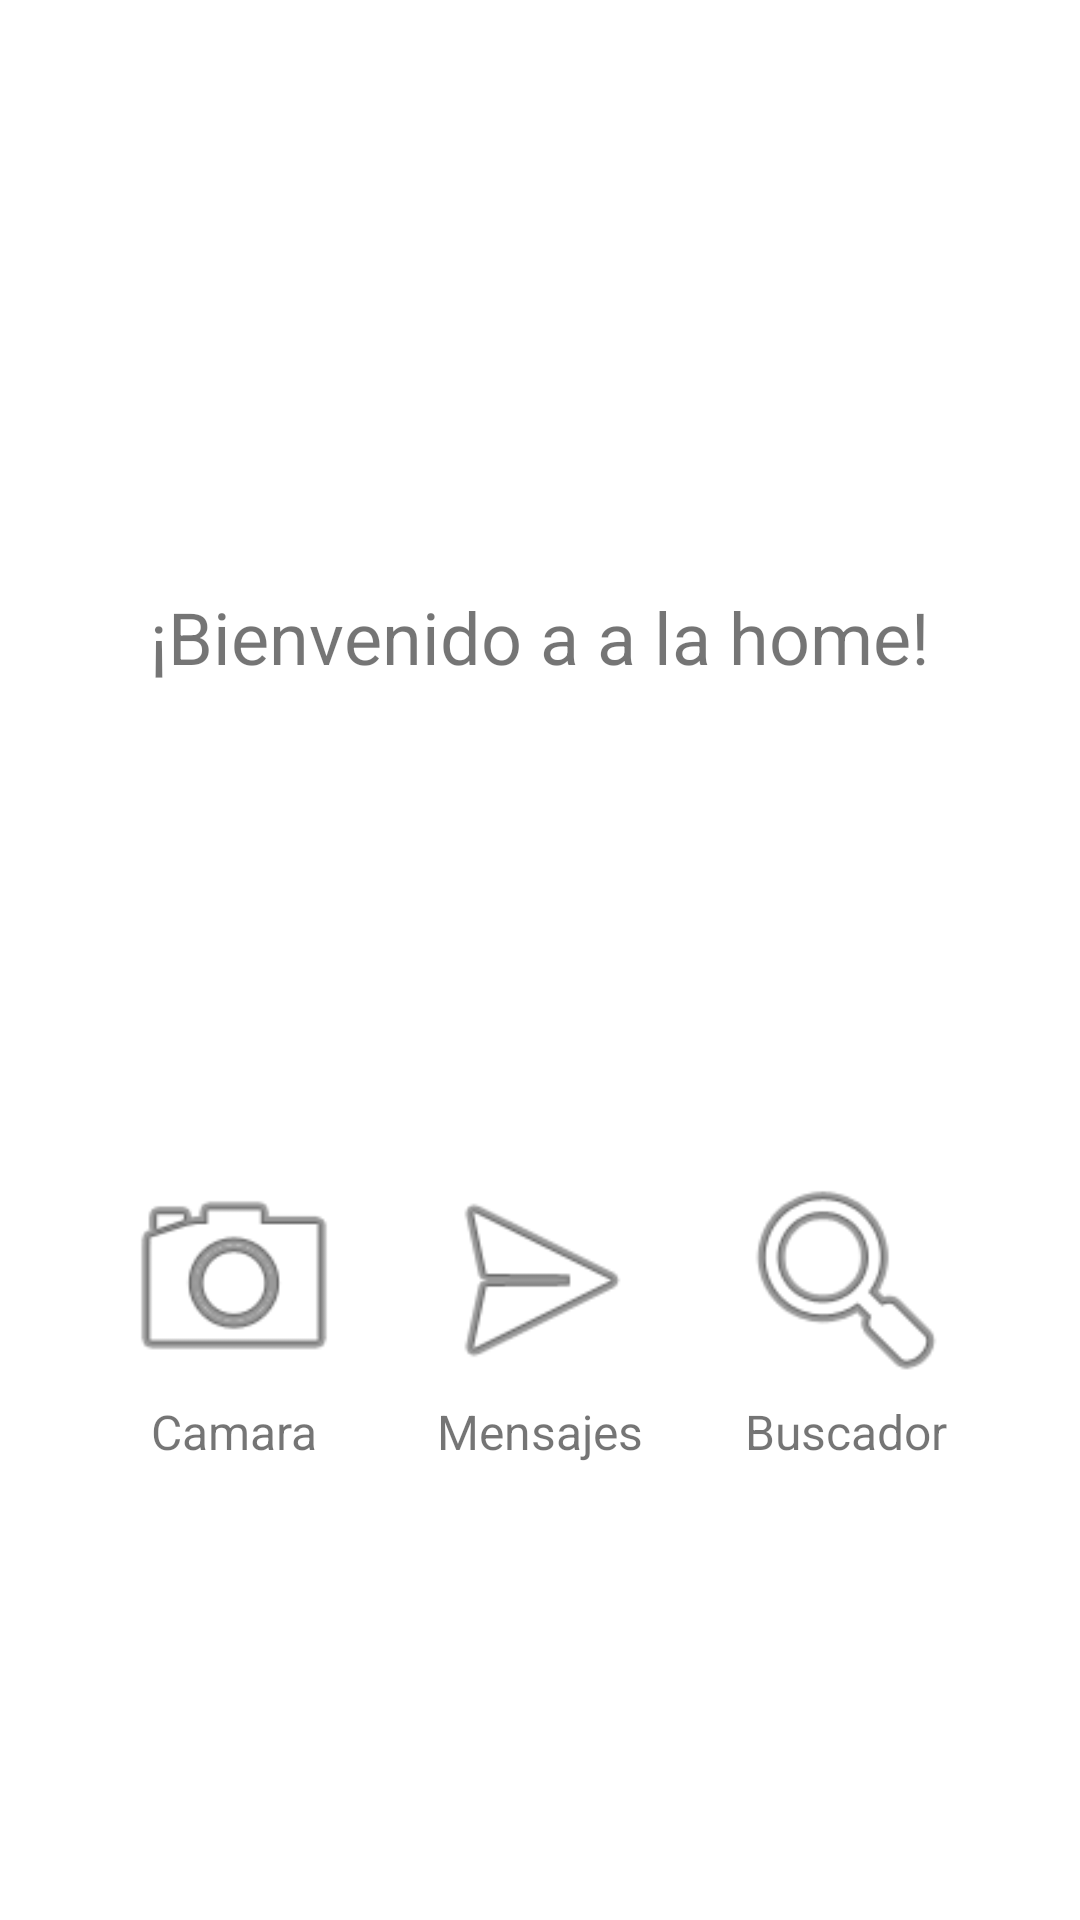

Point at icon controls on the screen. Image size 1080x1920, points as point (x, y).
send: point (542, 1280)
